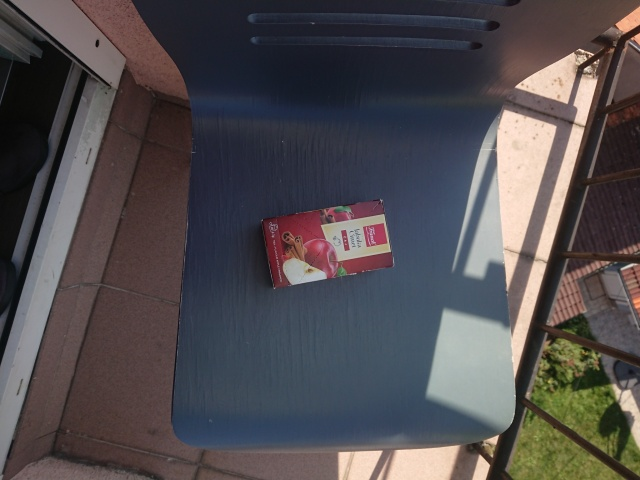Franck Apple Cinnamon Tea 60g: (258, 196, 395, 290)
